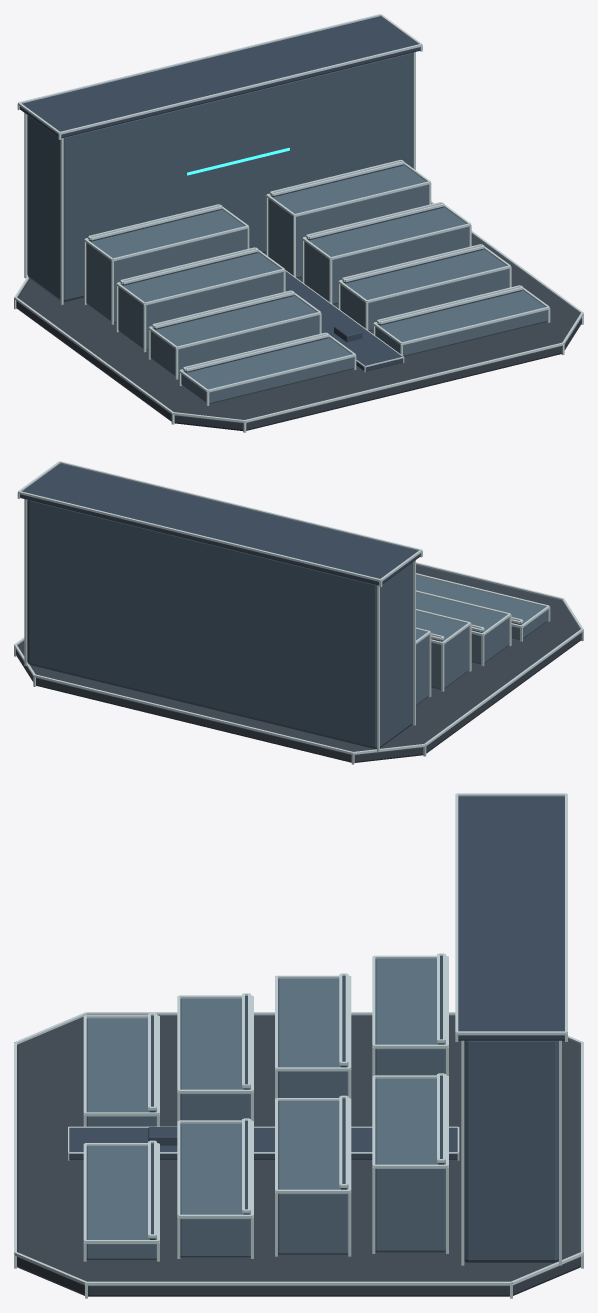
Rendered from skill-databricks-v1.glb.
3 views of the same model, one above another, from view 1: azimuth 30°, elevation 25°; view 2: azimuth 150°, elevation 25°; view 3: azimuth 270°, elevation 25° (orthographic). The views are drawn at different scales.
Parts seen in each view (by area): view 1: skill-databricks-v1__mesh-structure-mid__001, skill-databricks-v1__mesh-structure-dark__001, skill-databricks-v1__technical-lines__001, skill-databricks-v1__mesh-ground__001, skill-databricks-v1__mesh-roof__001; view 2: skill-databricks-v1__mesh-structure-dark__001, skill-databricks-v1__mesh-ground__001, skill-databricks-v1__mesh-roof__001, skill-databricks-v1__technical-lines__001, skill-databricks-v1__mesh-structure-mid__001; view 3: skill-databricks-v1__mesh-structure-mid__001, skill-databricks-v1__mesh-ground__001, skill-databricks-v1__mesh-roof__001, skill-databricks-v1__technical-lines__001, skill-databricks-v1__mesh-structure-dark__001.
Part boxes in pixels (x1=…): skill-databricks-v1__mesh-structure-mid__001: x1=86, y1=165, x2=547, y2=403; skill-databricks-v1__mesh-structure-dark__001: x1=27, y1=52, x2=412, y2=301; skill-databricks-v1__technical-lines__001: x1=14, y1=14, x2=583, y2=432; skill-databricks-v1__mesh-ground__001: x1=16, y1=234, x2=581, y2=430; skill-databricks-v1__mesh-roof__001: x1=19, y1=16, x2=522, y2=372; skill-databricks-v1__mesh-structure-dark__001: x1=27, y1=500, x2=412, y2=749; skill-databricks-v1__mesh-ground__001: x1=16, y1=565, x2=581, y2=762; skill-databricks-v1__mesh-roof__001: x1=20, y1=463, x2=522, y2=641; skill-databricks-v1__technical-lines__001: x1=14, y1=461, x2=583, y2=764; skill-databricks-v1__mesh-structure-mid__001: x1=416, y1=575, x2=547, y2=705; skill-databricks-v1__mesh-structure-mid__001: x1=86, y1=958, x2=445, y2=1259; skill-databricks-v1__mesh-ground__001: x1=17, y1=1015, x2=580, y2=1296; skill-databricks-v1__mesh-roof__001: x1=69, y1=796, x2=564, y2=1239; skill-databricks-v1__technical-lines__001: x1=14, y1=793, x2=583, y2=1298; skill-databricks-v1__mesh-structure-dark__001: x1=464, y1=1040, x2=558, y2=1262.
Size of the model in its own units: 36.17 by 15.59 by 32.17.
